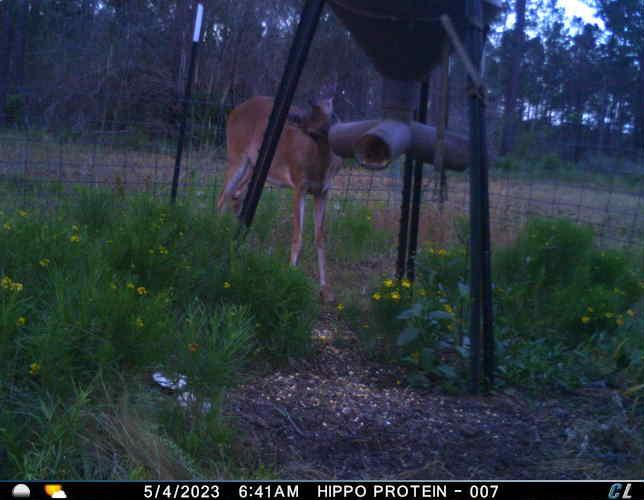Deer: (216, 89, 348, 299)
